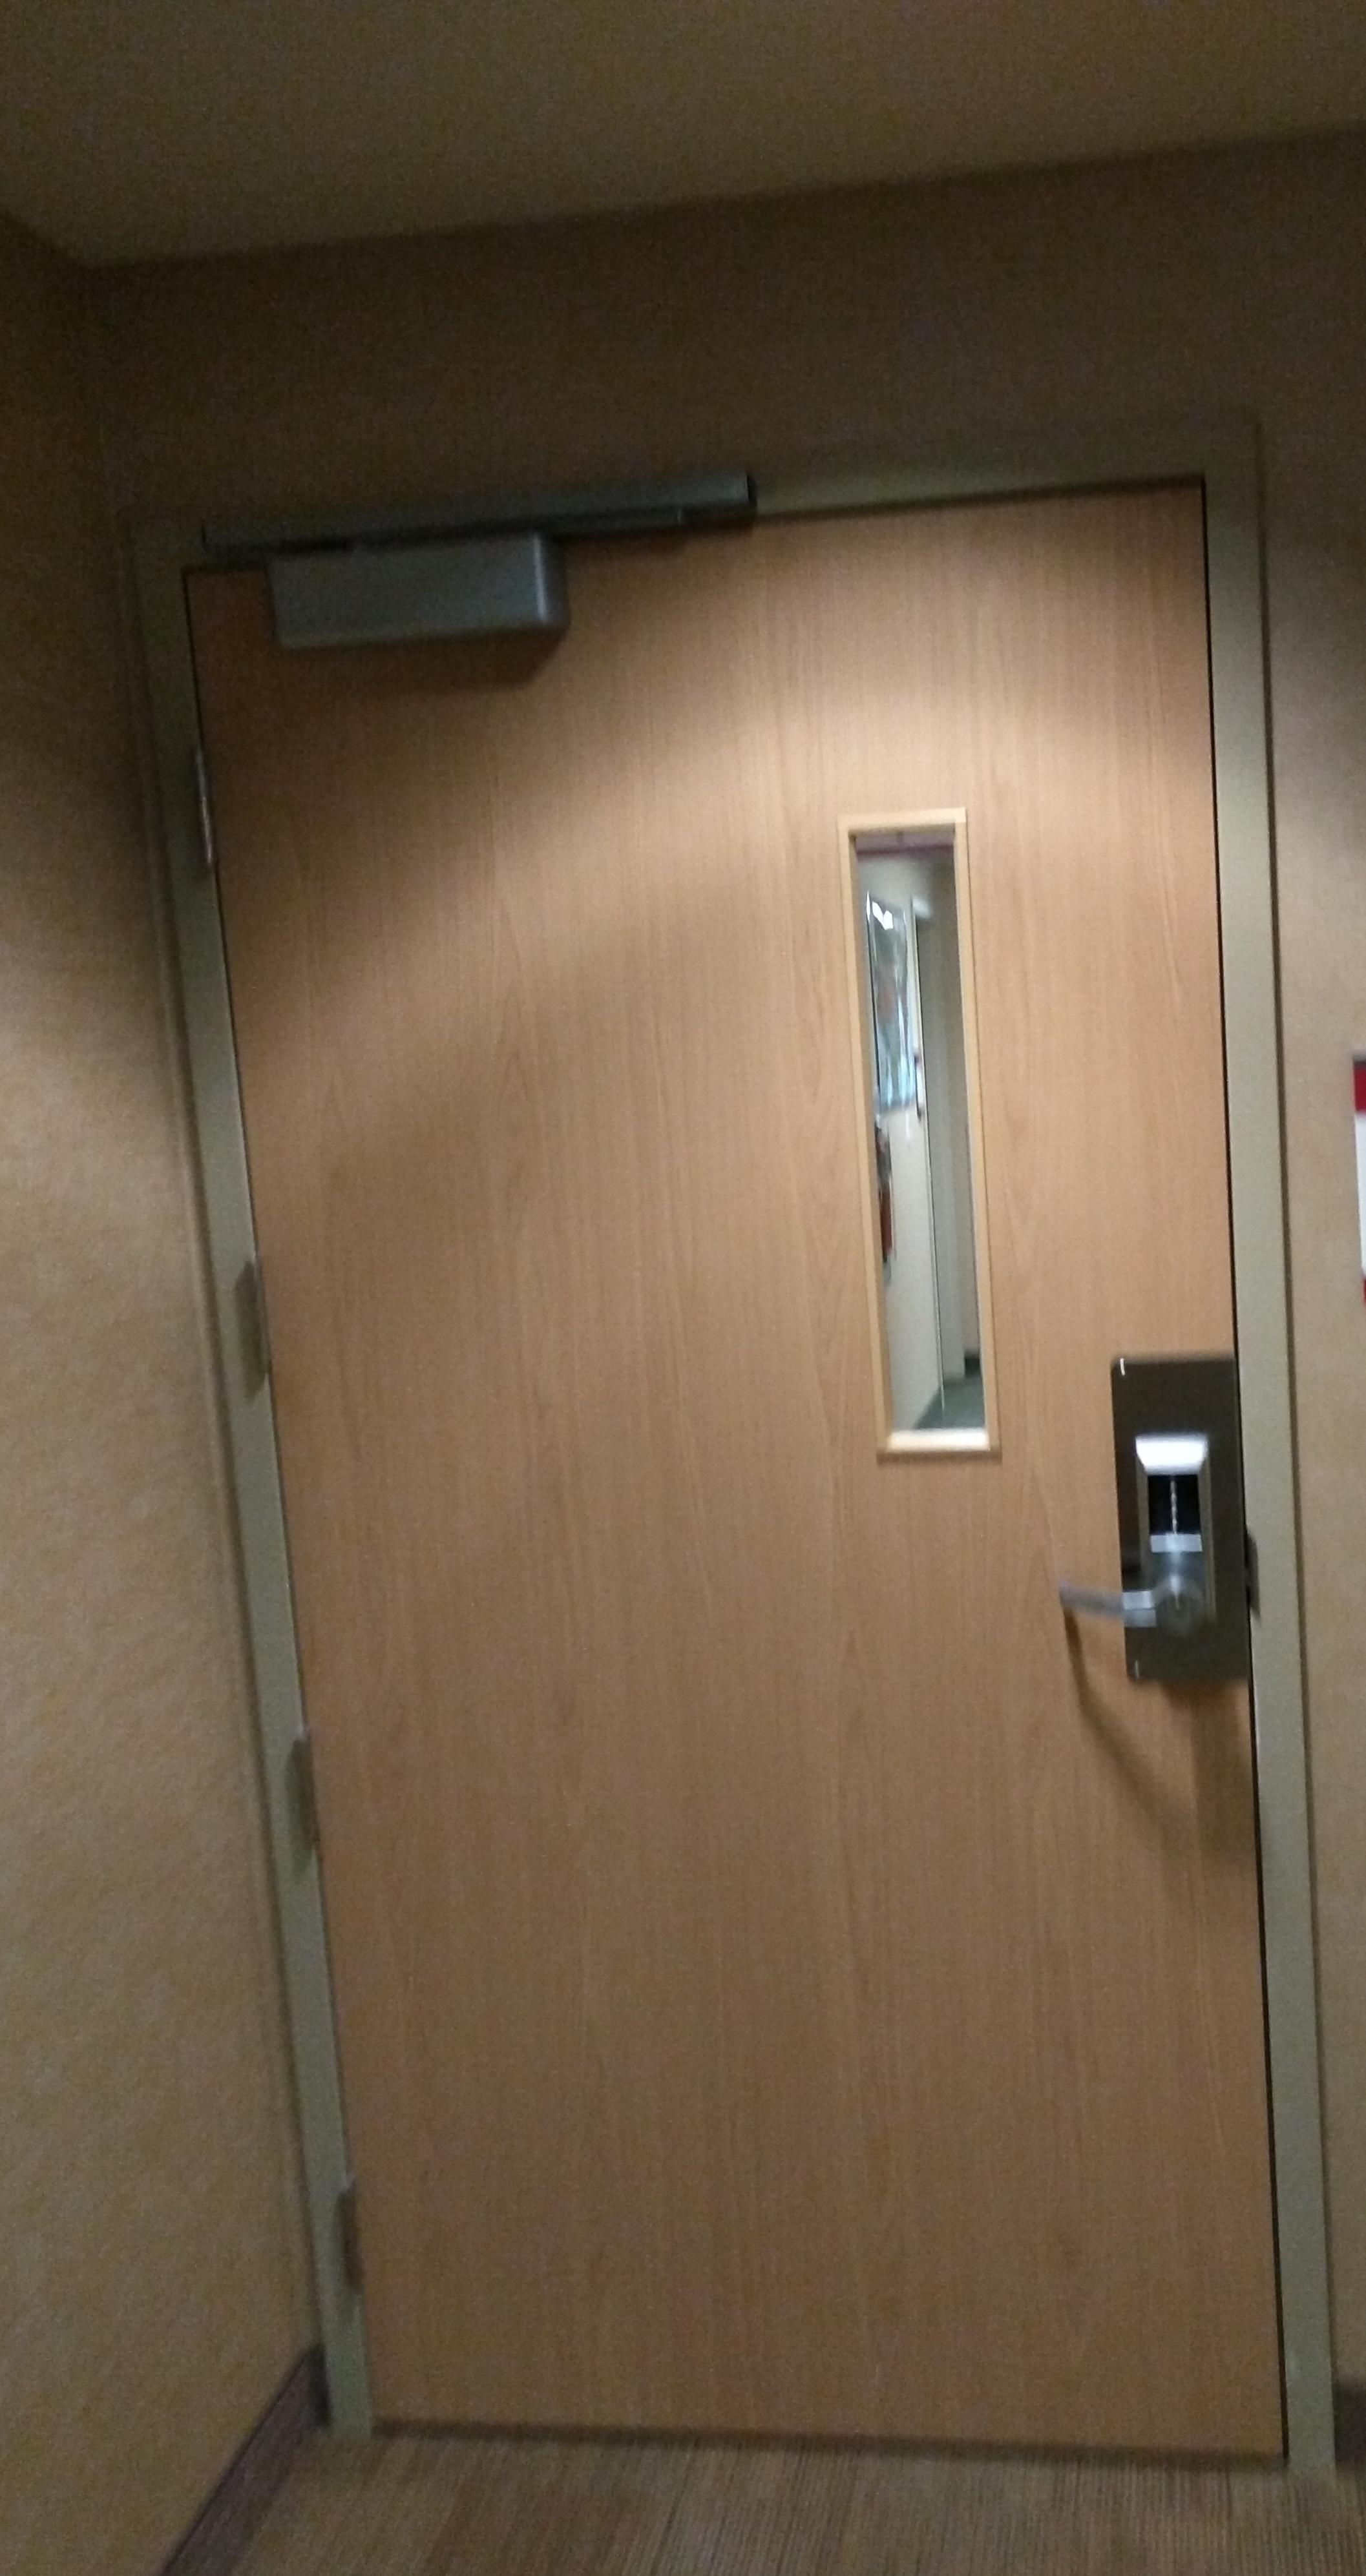handle: (1056, 1538, 1204, 1731)
